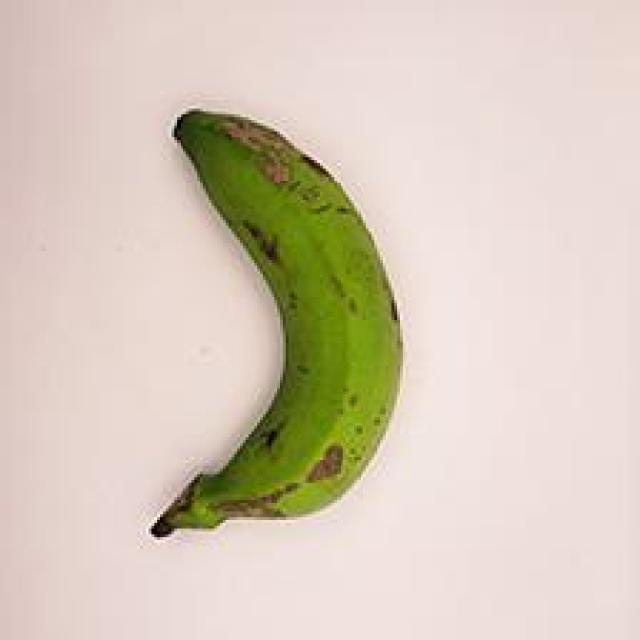Raw: (122, 89, 434, 564)
